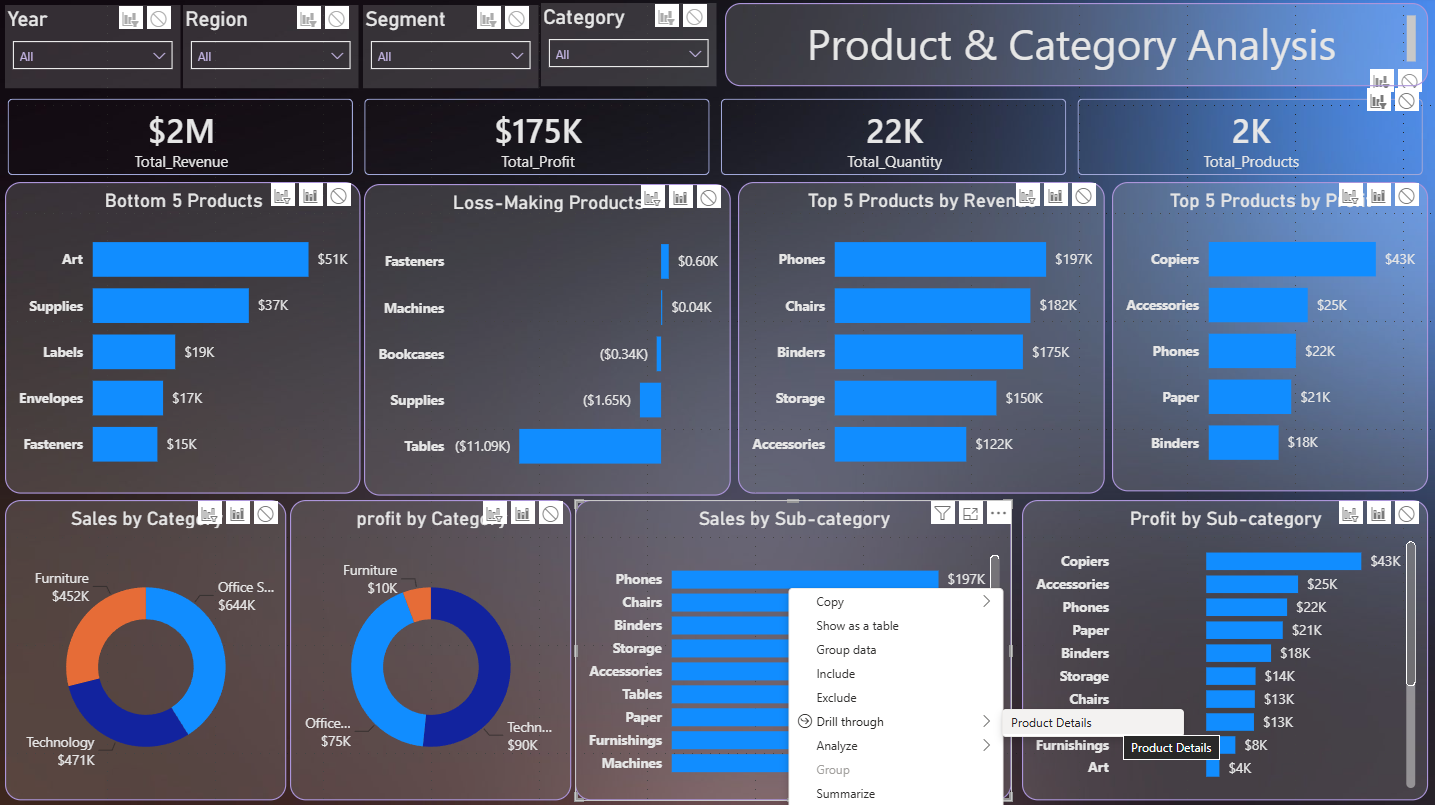

This screenshot's page, from the dashboard's own definition file:
{"tool":"powerbi","page":{"name":"Product & Category Analysis","canvas":[1280,720],"ordinal":4},"visuals":[{"type":"slicer","title":"Year","fields":{"Values":["DimDate.Order Year"]},"box":[5.5,6.9,155.5,74.3],"z":0},{"type":"cardVisual","fields":{"Data":["Measurements.Total_Revenue","Measurements.Total_Profit","Measurements.Total_Quantity","Measurements.Total_Products"]},"box":[2.8,85.3,1270.4,78.5],"z":1000},{"type":"textbox","box":[645.5,5.5,624.9,74.3],"z":2000},{"type":"slicer","title":"Segment","fields":{"Values":["DimCustomer.Segment"]},"box":[323.4,6.9,155.5,74.3],"z":3000},{"type":"slicer","title":"Region","fields":{"Values":["FactSales.Region"]},"box":[163.8,6.9,155.5,74.3],"z":4000},{"type":"clusteredBarChart","title":"Profit by Sub-category","fields":{"Y":["Measurements.Total_Profit"],"Category":["DimProduct.Sub-Category"]},"box":[909.8,447.3,360.6,267],"z":5000},{"type":"donutChart","title":"profit by Category    ","fields":{"Category":["DimProduct.Category"],"Y":["Measurements.Total_Profit"]},"box":[258.8,447.3,250.5,267],"z":6000},{"type":"slicer","title":"Category","fields":{"Values":["DimProduct.Category"]},"box":[481.7,5.5,155.5,74.3],"z":7000},{"type":"donutChart","title":"Sales by Category    ","fields":{"Y":["Measurements.Total_Revenue"],"Category":["DimProduct.Category"]},"box":[5.5,447.3,250.5,267],"z":8000},{"type":"clusteredBarChart","title":"Sales by Sub-category","fields":{"Y":["Measurements.Total_Revenue"],"Category":["DimProduct.Sub-Category"]},"box":[512,447.3,388.1,267],"z":9000},{"type":"clusteredBarChart","title":"Top 5 Products by Profit","fields":{"Y":["Measurements.Total_Profit"],"Category":["DimProduct.Sub-Category"]},"box":[989.4,164.6,280.5,275.5],"z":10000},{"type":"clusteredBarChart","title":"Top 5 Products by Revenue","fields":{"Y":["Sum(FactSales.Sales)"],"Category":["DimProduct.Sub-Category"]},"box":[656.8,164.6,325.9,277.2],"z":11000},{"type":"clusteredBarChart","title":"Loss-Making Products","fields":{"Y":["Measurements.Total_Profit"],"Category":["DimProduct.Sub-Category"]},"box":[324.2,166.3,325.9,277.2],"z":12000},{"type":"clusteredBarChart","title":"Bottom 5 Products","fields":{"Category":["DimProduct.Sub-Category"],"Y":["Sum(FactSales.Sales)"]},"box":[5,164.6,315.8,277.2],"z":13000}]}

Visuals, with their boxes in screenshot pixels (x1, y1, x2, y2), scaled from the page's 1280x720 canvas onto the 1435x805 screenshot:
"Year" slicer: [6,8,180,91]
cardVisual - Measurements.Total_Revenue x Measurements.Total_Profit: [3,95,1427,183]
textbox: [724,6,1424,89]
"Segment" slicer: [363,8,537,91]
"Region" slicer: [184,8,358,91]
"Profit by Sub-category" clusteredBarChart: [1020,500,1424,799]
"profit by Category    " donutChart: [290,500,571,799]
"Category" slicer: [540,6,714,89]
"Sales by Category    " donutChart: [6,500,287,799]
"Sales by Sub-category" clusteredBarChart: [574,500,1009,799]
"Top 5 Products by Profit" clusteredBarChart: [1109,184,1424,492]
"Top 5 Products by Revenue" clusteredBarChart: [736,184,1102,494]
"Loss-Making Products" clusteredBarChart: [363,186,729,496]
"Bottom 5 Products" clusteredBarChart: [6,184,360,494]
